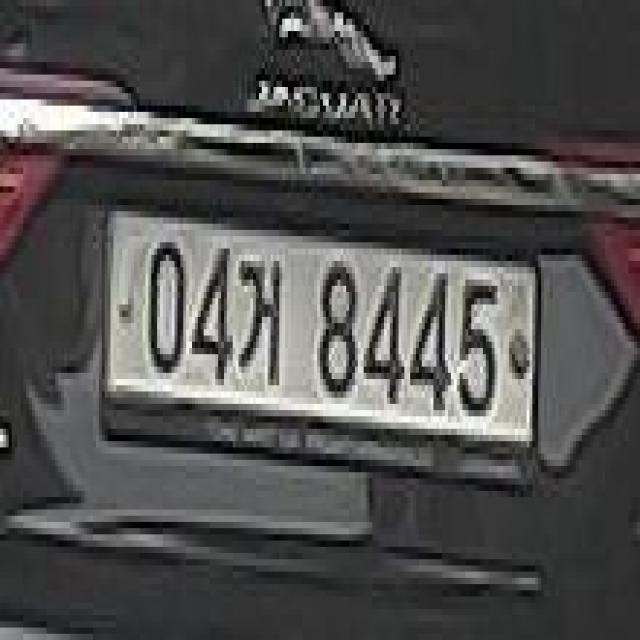illegal_plate: (99, 197, 546, 496)
